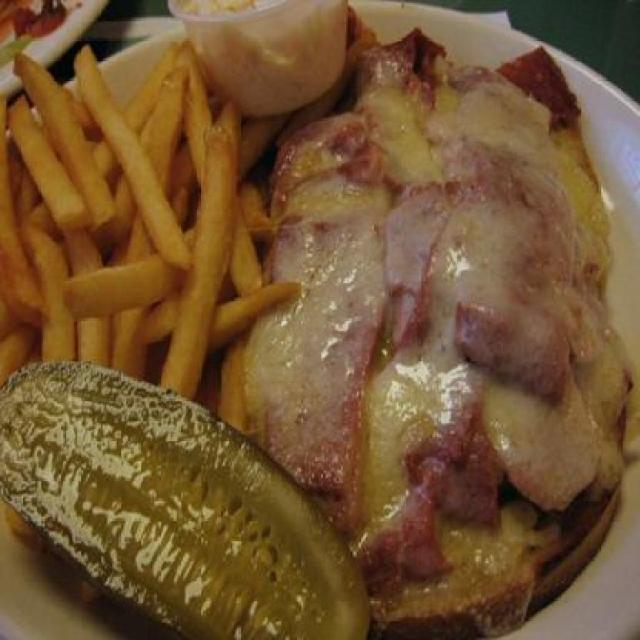Potato: (0, 37, 300, 605)
